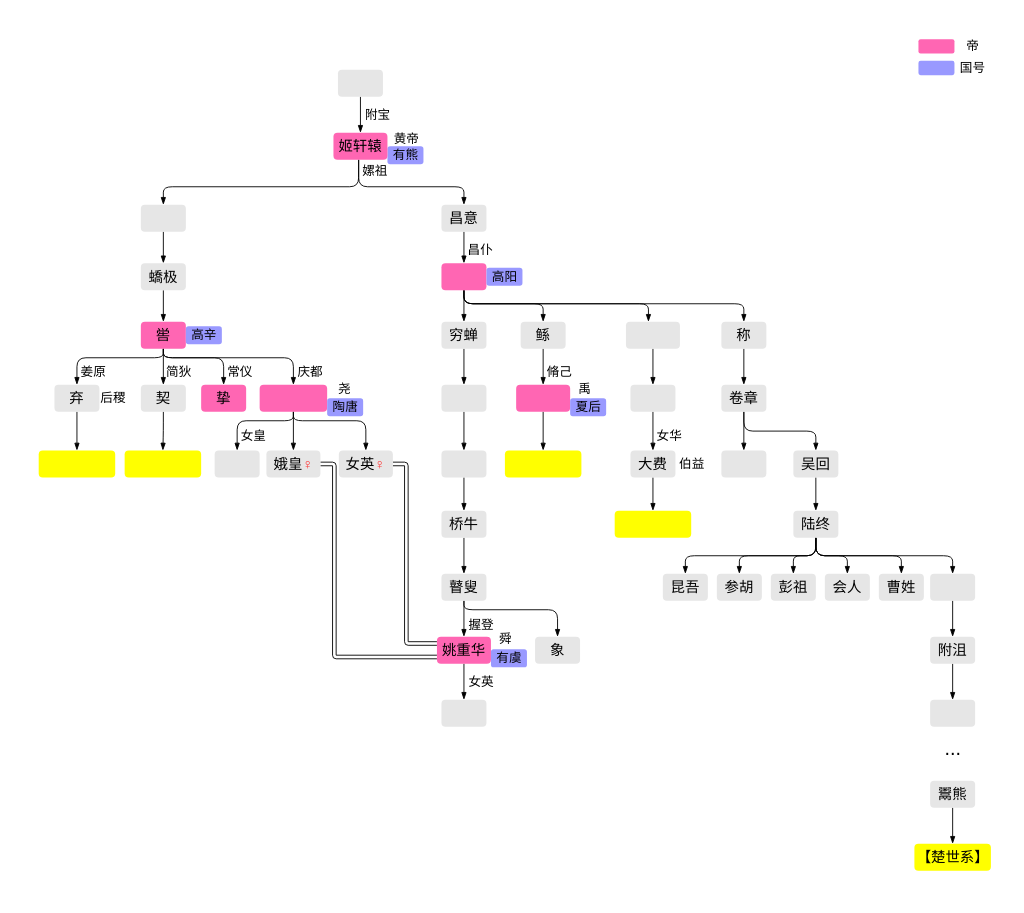
Image size: 1024x913. Some labels were removed from this diagram. The shapes that lost their labels are listed below. From the top down, each one's centre as x and y in pixels, then its label:
point 360,82: 少典
point 162,217: 玄嚣
point 463,276: 颛顼
point 653,334: 女脩 ♀
point 293,397: 伊祁放勋
point 463,397: 敬康
point 543,397: 姒文命
point 652,397: 大业
point 76,463: 【周世系】
point 162,463: 【商世系】
point 236,463: 丹朱
point 463,463: 句望
point 542,463: 【夏世系】
point 743,463: 重黎
point 652,523: 【秦世系】
point 952,586: 季连
point 463,712: 商均
point 952,712: 穴熊
